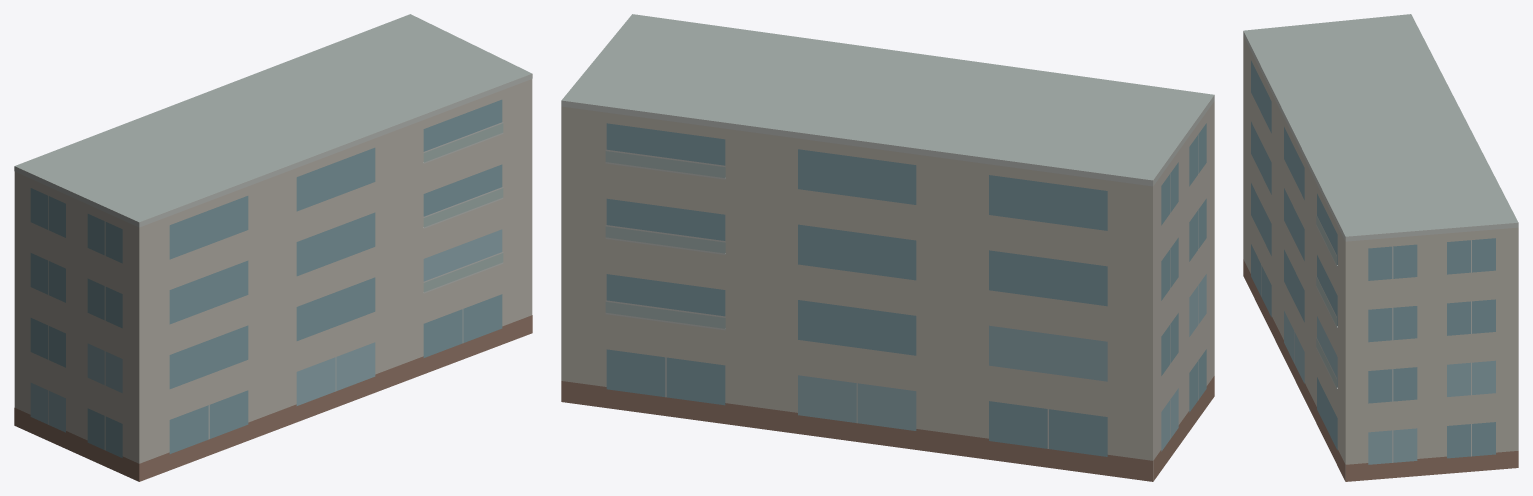
File: survey-upis-32605530.glb
3 views of the same model, side by side, from view 1: azimuth 30°, elevation 25°; view 2: azimuth 150°, elevation 25°; view 3: azimuth 270°, elevation 25° (orthographic). The views are drawn at different scales.
Parts seen in each view (by area): view 1: survey-upis-32605530.tmp; view 2: survey-upis-32605530.tmp; view 3: survey-upis-32605530.tmp.
Part boxes in pixels (box(x1,y1,x2,y2)): survey-upis-32605530.tmp: box(14, 14, 532, 481); survey-upis-32605530.tmp: box(561, 14, 1214, 481); survey-upis-32605530.tmp: box(1243, 14, 1518, 481).
Size of the model in its own units: 23.78 by 12.2 by 12.43.
